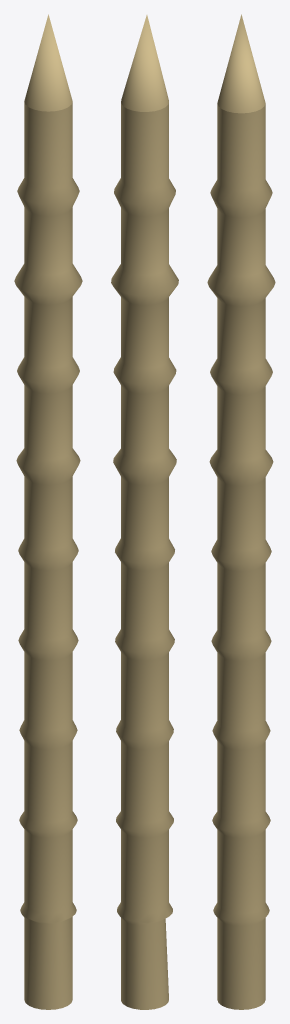
The model's file is bambu_runcing.fbx.
3 views of the same model, side by side, from view 1: azimuth 90°, elevation 25°; view 2: azimuth 150°, elevation 25°; view 3: azimuth 270°, elevation 25° (orthographic).
Parts seen in each view (by area): view 1: pCylinder1; view 2: pCylinder1; view 3: pCylinder1.
Part boxes in pixels (box(x1,y1,x2,y2)): pCylinder1: box(14, 14, 82, 1009); pCylinder1: box(111, 15, 178, 1009); pCylinder1: box(207, 14, 275, 1009).
Bounding box in the file's own units: 0.6855 × 10.92 × 0.6855.
